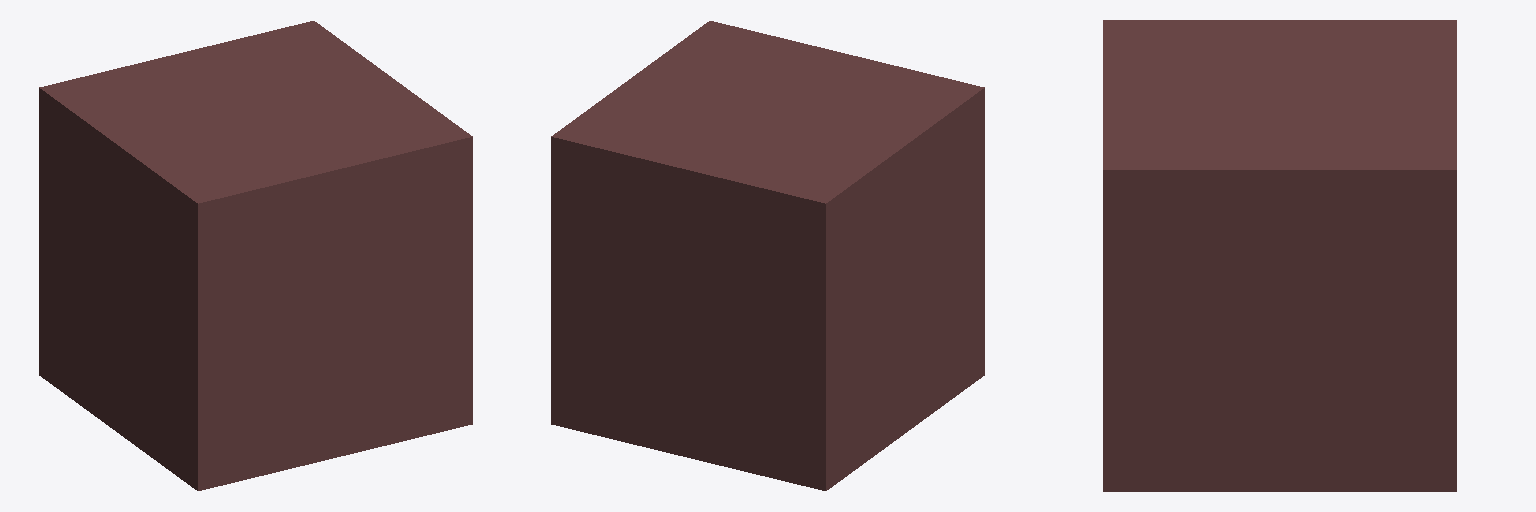
robot.urdf — dirt3:
<?xml version="1.0"?>
<robot name="dirt3">
    <link name="robot_base">
        <inertial>
            <origin xyz="0.300002 0.000002 0.025004" rpy="-3.141593 3.141593 -3.141593" />
            <inertia ixz="0.0" ixy="0.0" ixx="8.1380194155637e-12" iyz="0.0" izz="8.1380194155637e-12" iyy="8.1380194155637e-12" />
            <mass value="4.8828115950528e-07" />
        </inertial>
        <collision name="dirt3">
            <origin xyz="0.300002 0.000002 0.025004" rpy="-3.141593 3.141593 -3.141593" />
            <geometry>
                <box size="0.010000 0.010000 0.010000" />
            </geometry>
        </collision>
        <visual name="dirt3">
            <origin xyz="0.300002 0.000002 0.025004" rpy="-3.141593 3.141593 -3.141593" />
            <geometry>
                <box size="0.010000 0.010000 0.010000" />
            </geometry>
            <material name="robot_base_material">
                <color rgba="0.460000 0.310000 0.310000 1.0" />
            </material>
        </visual>
    </link>
</robot>

--- Render facts (derived) ---
The picture shows the robot from 3 angles, left to right: view 1: azimuth 30°, elevation 25°; view 2: azimuth 150°, elevation 25°; view 3: azimuth 270°, elevation 25°; orthographic projection.
Model dirt3 with 1 links and 0 joints (none), rooted at robot_base, posed every joint at zero.
Links seen in each view (by area): view 1: robot_base; view 2: robot_base; view 3: robot_base.
Boxes of the visible links, x1,y1,x2,y2 form: robot_base: [39, 21, 472, 490]; robot_base: [551, 21, 984, 490]; robot_base: [1103, 20, 1456, 491].
Bounding box of the posed robot: 0.01 × 0.01 × 0.01 m (x, y, z).
Geometry: primitives only (box / cylinder / sphere), no mesh files.
